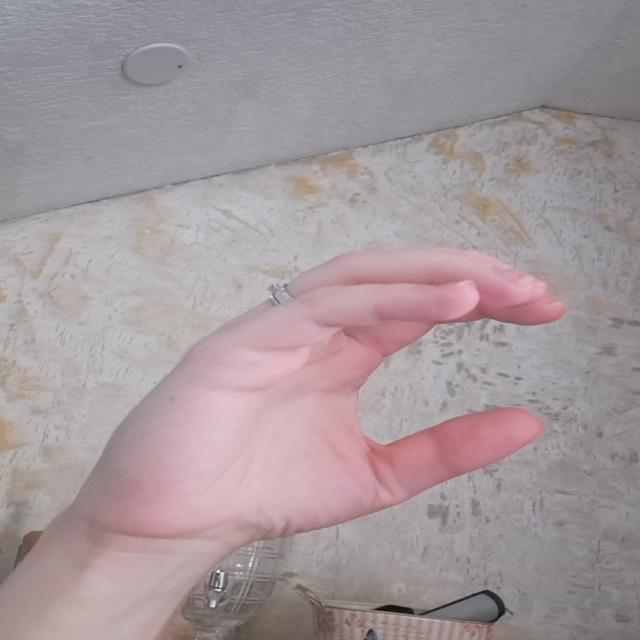C: (60, 230, 578, 545)
